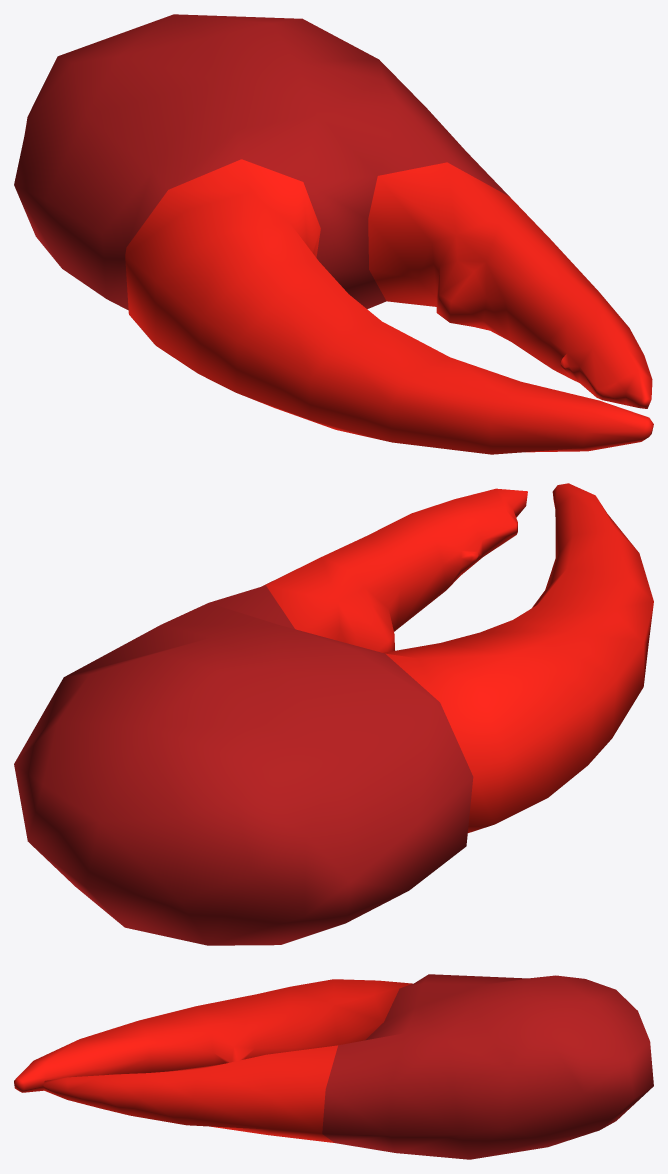
Rendered from carb_claw.fbx.
3 views of the same model, one above another, from view 1: azimuth 30°, elevation 25°; view 2: azimuth 150°, elevation 25°; view 3: azimuth 270°, elevation 25° (orthographic). The views are drawn at different scales.
Visible parts, largest first — view 1: carb_claw; view 2: carb_claw; view 3: carb_claw.
Boxes of the visible parts, box(x1,y1,x2,y2) form: carb_claw: box(14, 14, 653, 454); carb_claw: box(14, 483, 653, 945); carb_claw: box(14, 974, 653, 1159).
Size of the model in its own units: 2.15 by 1.41 by 5.13.
Materials: 1 (1 with a texture image).
